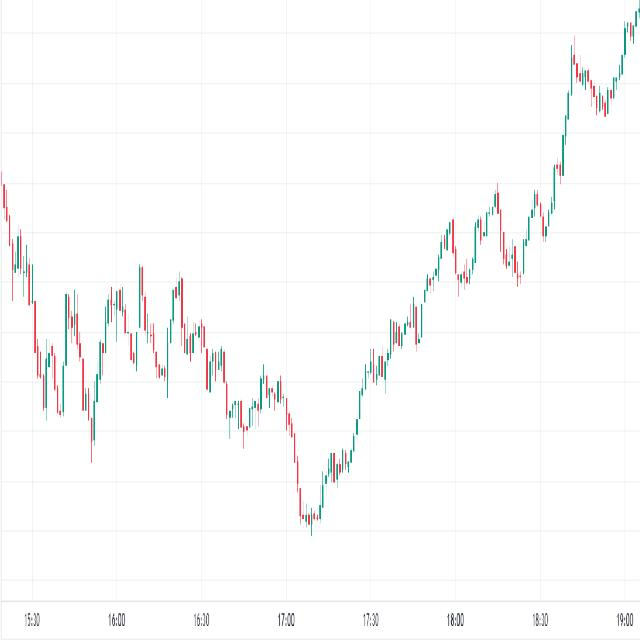Falling-Wedge: (97, 167, 270, 450)
rectangle: (439, 177, 548, 295)
